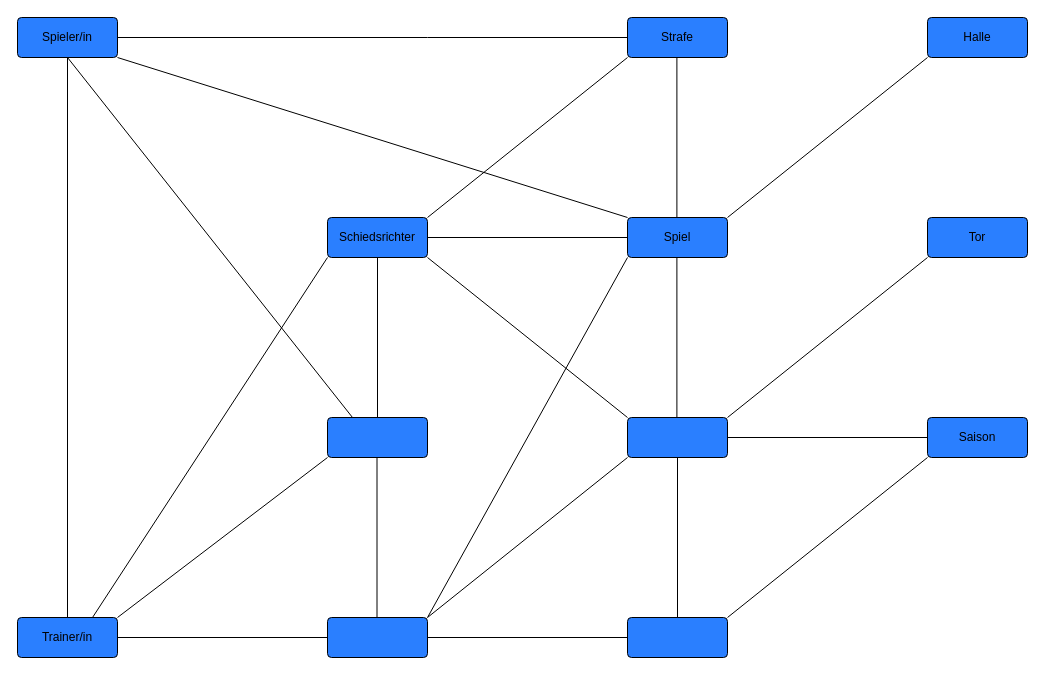
The diagram is 1045 pixels wide and 675 high, and some of its shapes have lost their labels. The shapes that lost their labels are listed below. From the top down, each one's centre as x and y in pixels, then its label:
At (377,437): "Verein".
At (677,437): "Spielereignis".
At (377,637): "Mannschaft".
At (677,637): "Liga".
